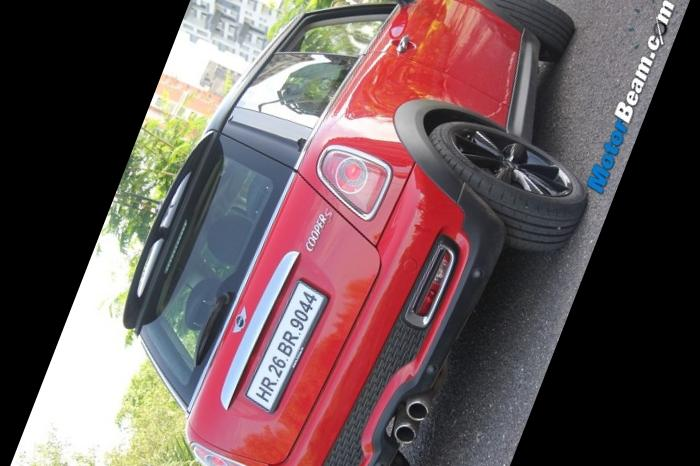plate: (233, 247, 359, 423)
